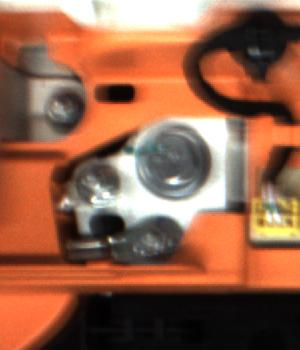nut_b: (124, 125, 220, 199)
screw_s: (77, 165, 120, 205), (129, 217, 169, 258), (42, 91, 83, 127)
